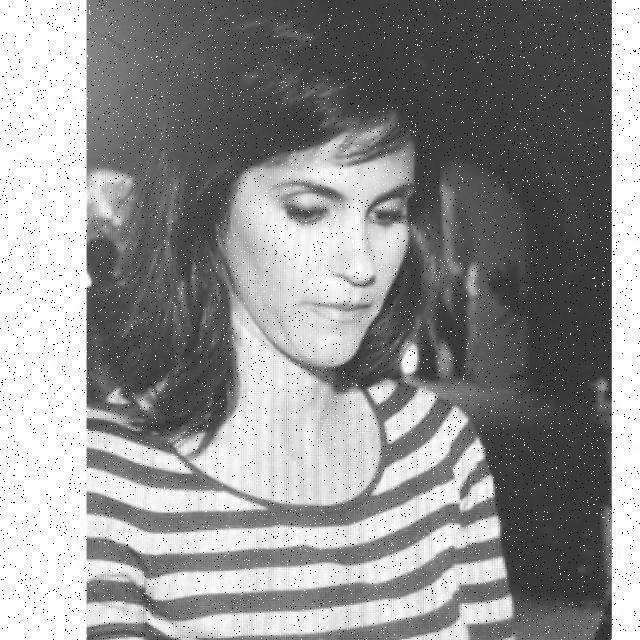real: (224, 138, 420, 374)
